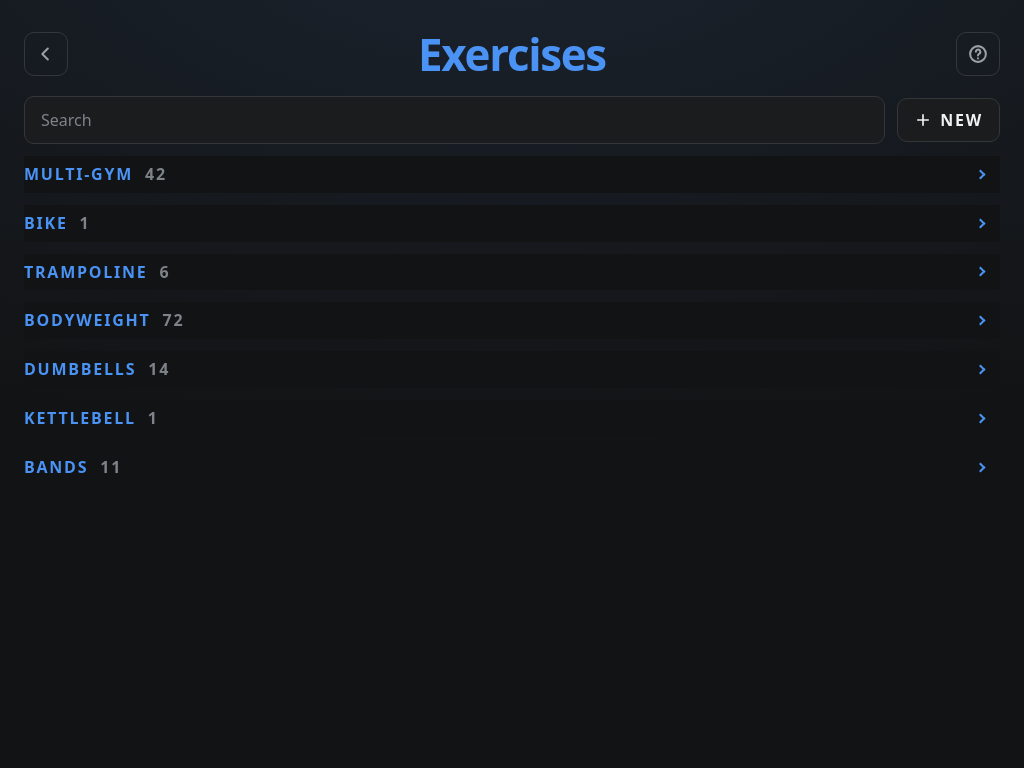
Test: the kit sections › keeps a clear button on the search while it has text
This screenshot has width=1024, height=768.
Type "press" into the search field named "Search exercises".
click(455, 120); type("press")  # box [24, 96, 885, 144]
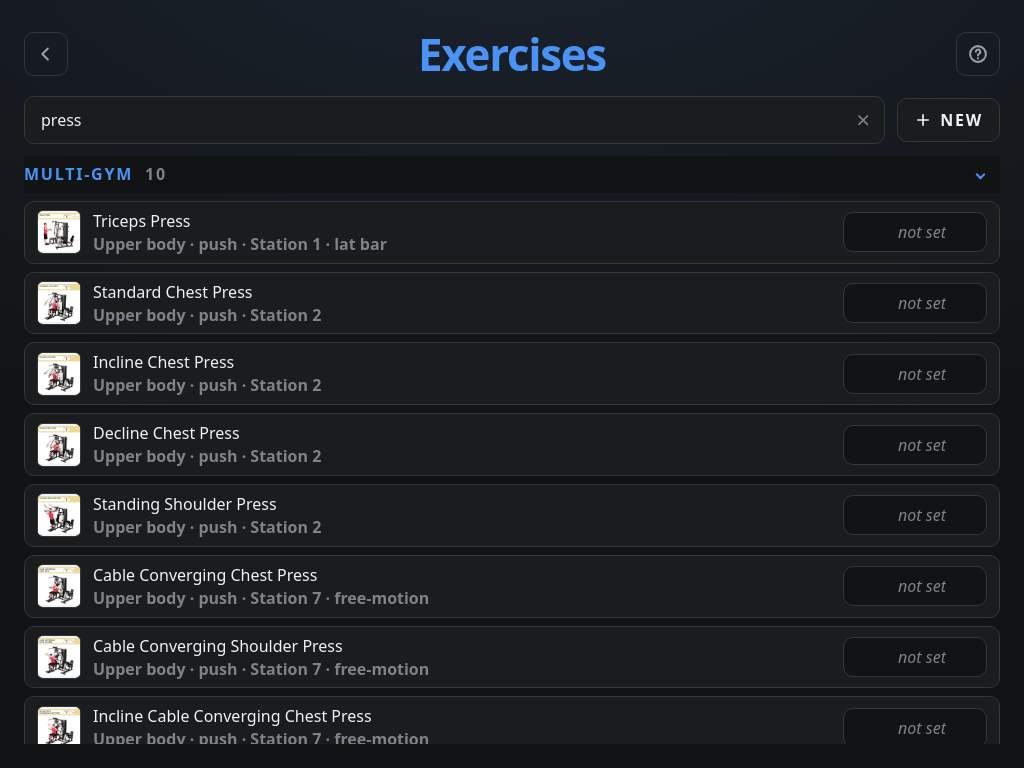
Click the button named "Clear the search".
click(864, 120)  # box [848, 104, 880, 136]
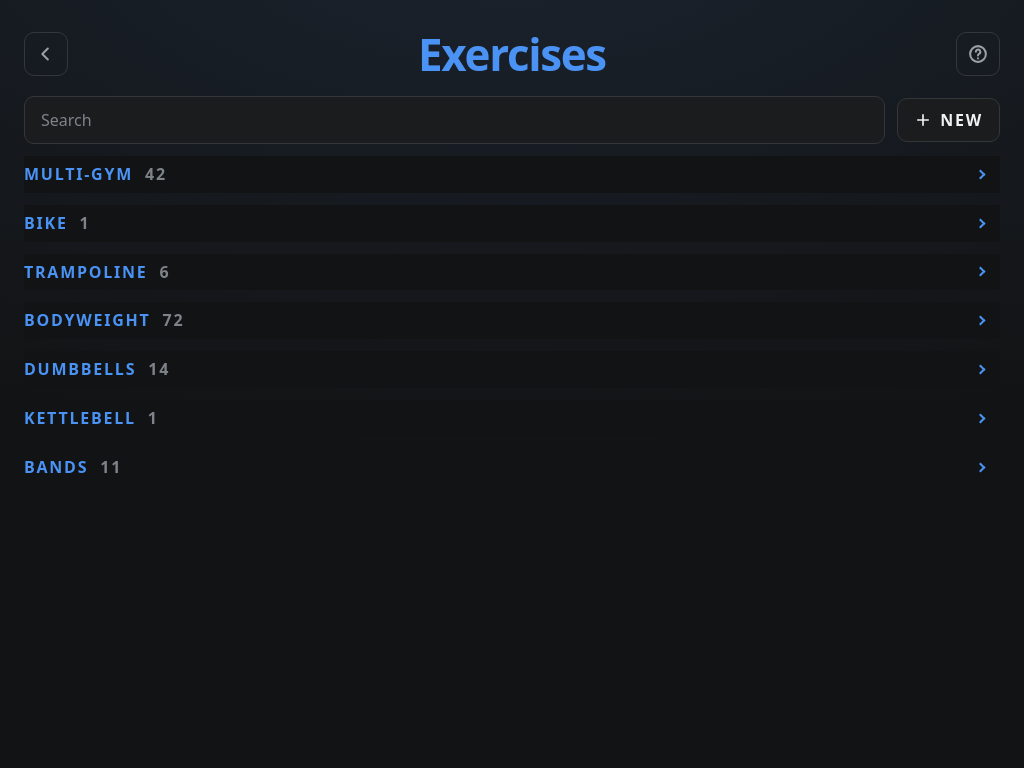
Expected: the search field named "Search exercises" is empty, [24, 96, 885, 144]
